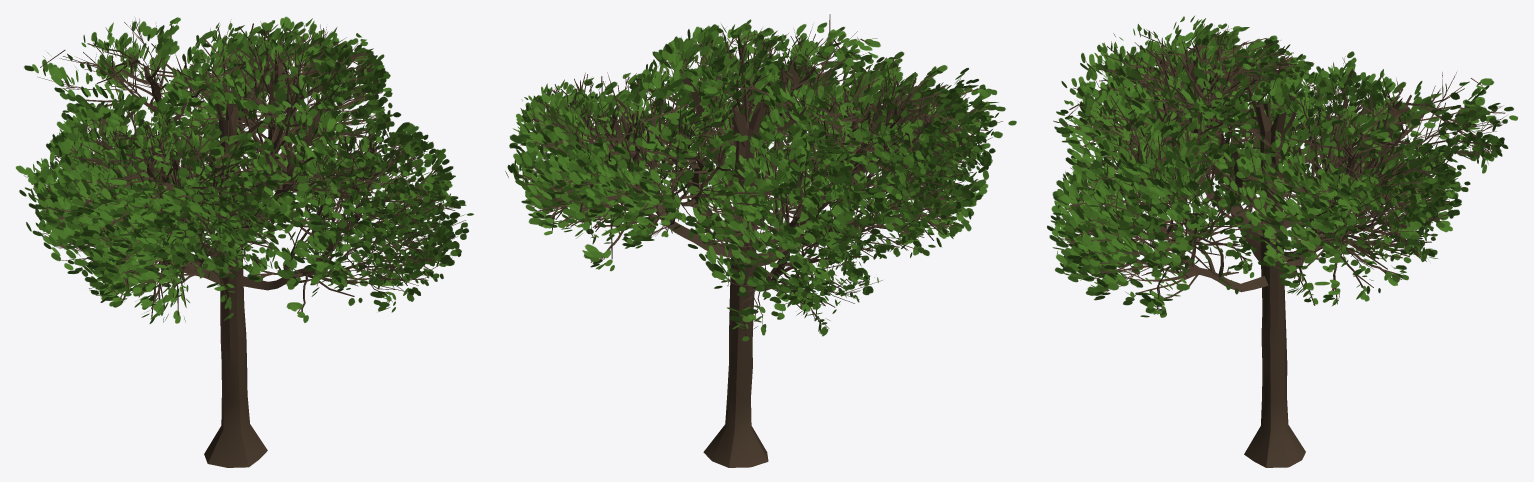
3 renders of one model, left to right at view 1: azimuth 30°, elevation 25°; view 2: azimuth 150°, elevation 25°; view 3: azimuth 270°, elevation 25°, orthographic. The views are drawn at different scales.
Visible parts, largest first — view 1: oak 01.001_trunk_Mat.001_0.090; view 2: oak 01.001_trunk_Mat.001_0.090; view 3: oak 01.001_trunk_Mat.001_0.090.
Part boxes in pixels (x1,y1,x2,y2): oak 01.001_trunk_Mat.001_0.090: (15,16,473,467); oak 01.001_trunk_Mat.001_0.090: (505,14,1016,467); oak 01.001_trunk_Mat.001_0.090: (1047,16,1517,467).
Size of the model in its own units: 5.31 by 4.6 by 5.45.
2 materials, 1 textured.
